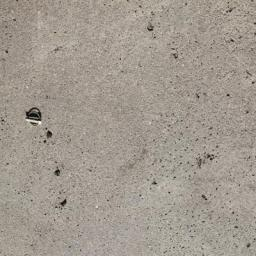FOD: (20, 106, 48, 132)
